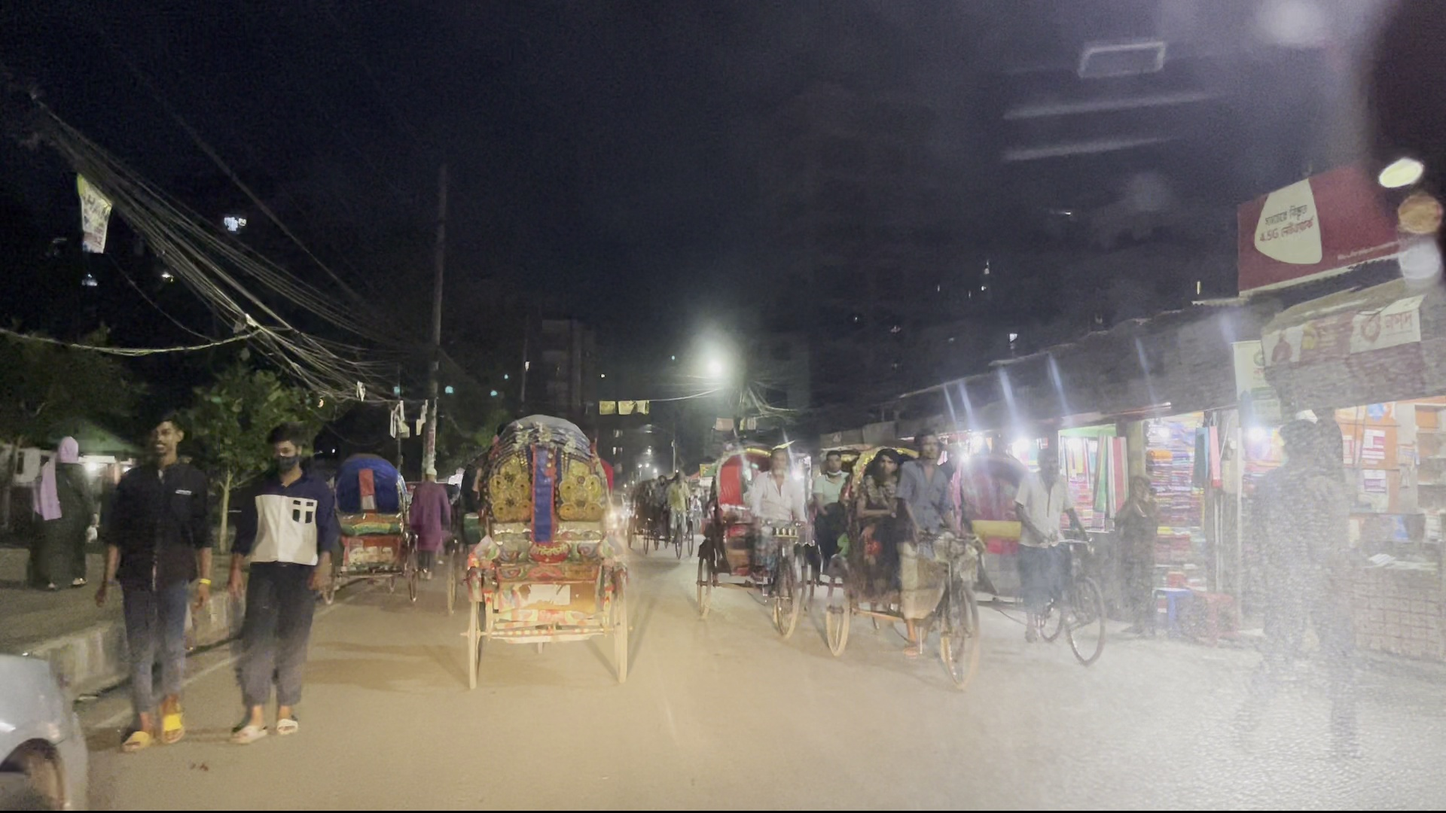person: (216, 419, 342, 733), (101, 410, 213, 750), (27, 430, 99, 596), (1115, 471, 1157, 646), (408, 464, 451, 587)
